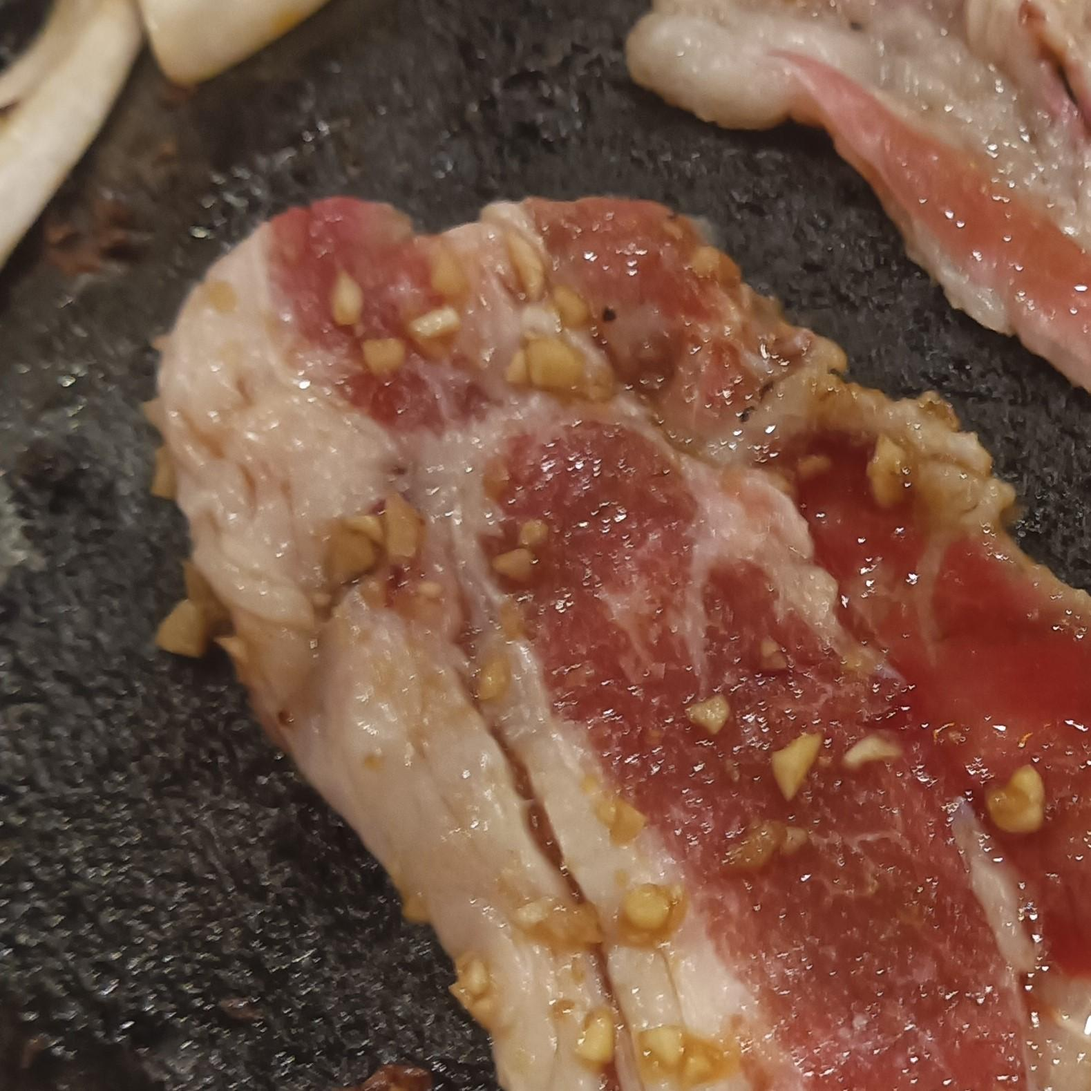Undercooked: (149, 198, 1090, 1090), (627, 0, 1090, 392)
